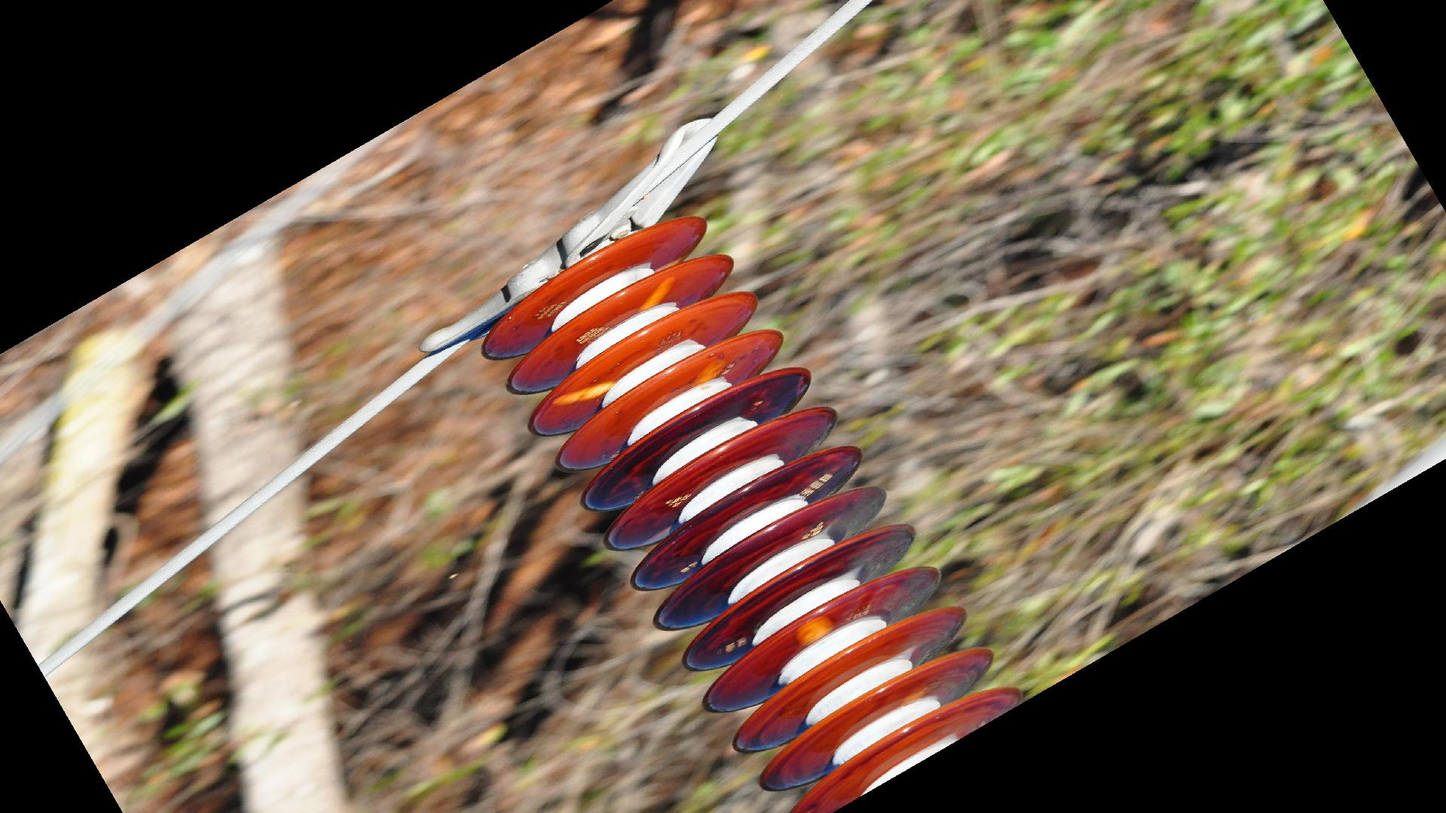insulator: (474, 209, 1030, 813)
insulator_flashover: (549, 378, 616, 410), (633, 273, 678, 315), (794, 610, 835, 649), (688, 357, 730, 386)
